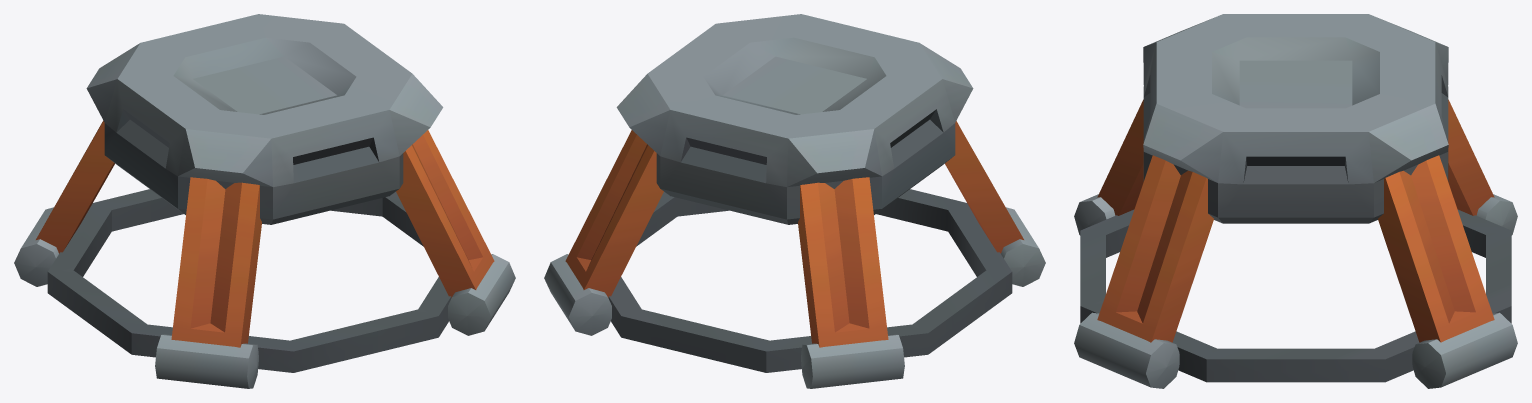
File: kay-estrutura-baixa.gltf
3 views of the same model, side by side, from view 1: azimuth 30°, elevation 25°; view 2: azimuth 150°, elevation 25°; view 3: azimuth 270°, elevation 25° (orthographic). The views are drawn at different scales.
Parts seen in each view (by area): view 1: structure_low; view 2: structure_low; view 3: structure_low.
Boxes of the visible parts, <box> form: structure_low: <box>14,14,515,388</box>; structure_low: <box>544,14,1045,388</box>; structure_low: <box>1074,14,1517,388</box>.
Bounding box in the file's own units: 4.55 × 2.6 × 4.55.
Materials: 1 (1 with a texture image).
